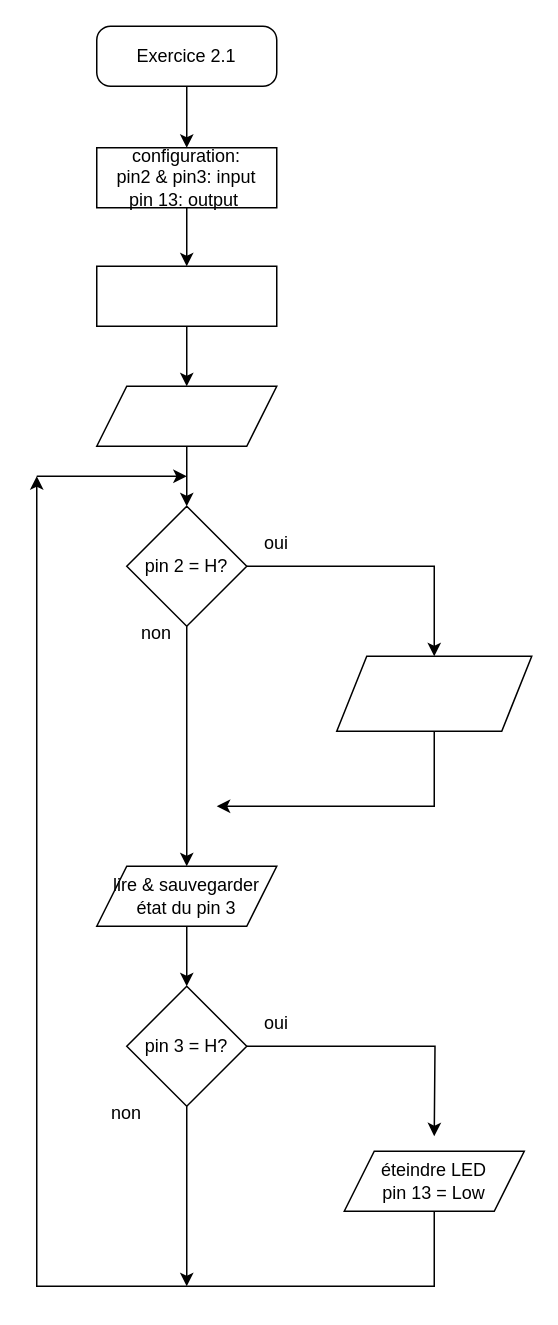
Image size: 558x1325. Some labels were removed from this diagram. The centre of each missing label's shape, as x and y in pixels:
"allumer LED pin 13 = HIGH" belongs at (x=433, y=693).
"initialisation: pin 13 = low" belongs at (x=186, y=295).
"lire & sauvegarder état du pin 2" belongs at (x=186, y=415).
